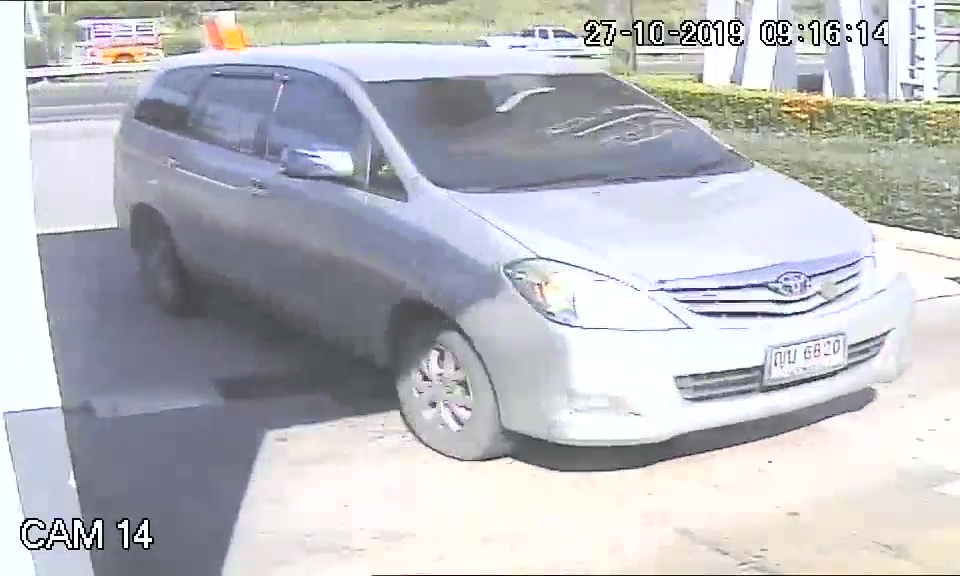van: (109, 42, 922, 469)
